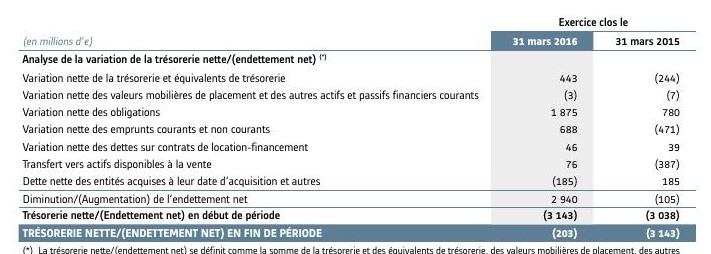table: (0, 0, 711, 254)
